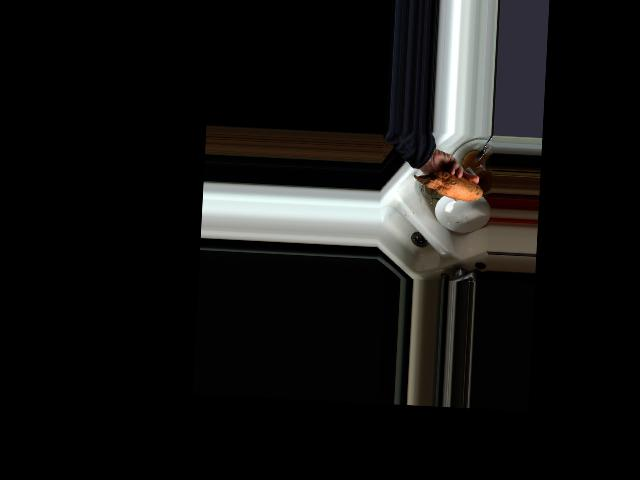sweet_potato: (412, 169, 483, 203)
